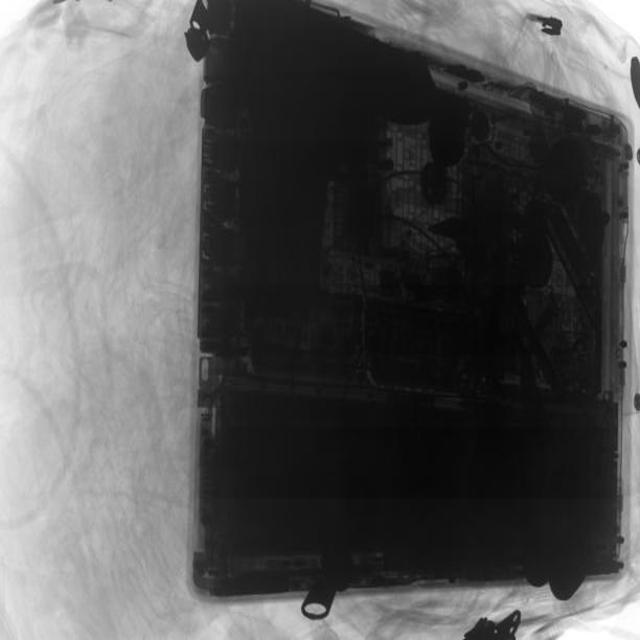gun: (219, 1, 437, 320)
